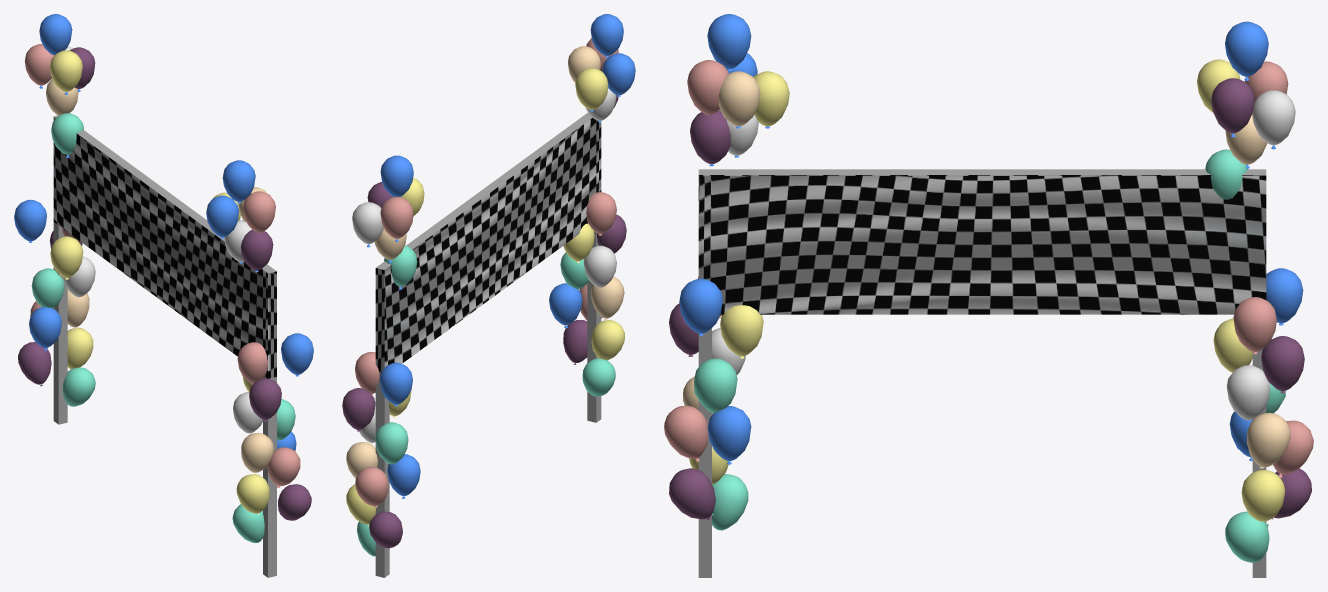
The model's file is Meta_1.fbx.
The picture shows the model from 3 angles, left to right: view 1: azimuth 30°, elevation 25°; view 2: azimuth 150°, elevation 25°; view 3: azimuth 270°, elevation 25°; orthographic projection. The views are drawn at different scales.
Visible parts, largest first — view 1: Cube.008; view 2: Cube.008; view 3: Cube.008.
Boxes of the visible parts, x1,y1,x2,y2 form: Cube.008: (14,14,313,577); Cube.008: (342,14,635,577); Cube.008: (664,14,1313,577).
Bounding box in the file's own units: 3.76 × 16.41 × 17.72.
